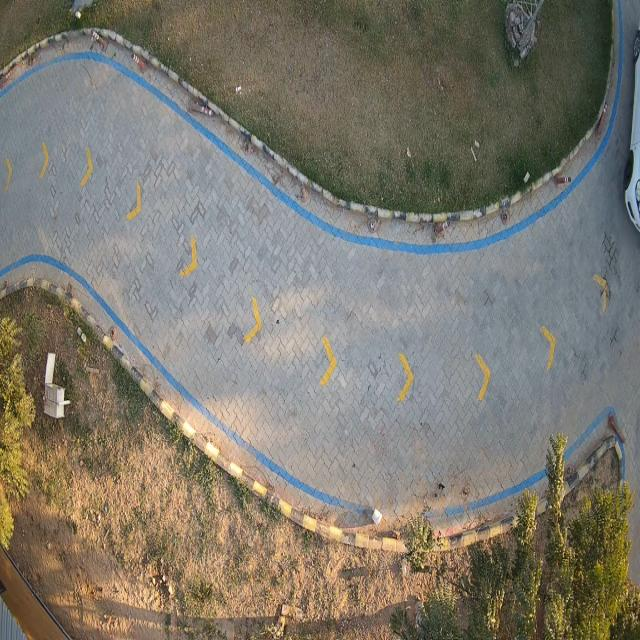car: (626, 28, 640, 236)
